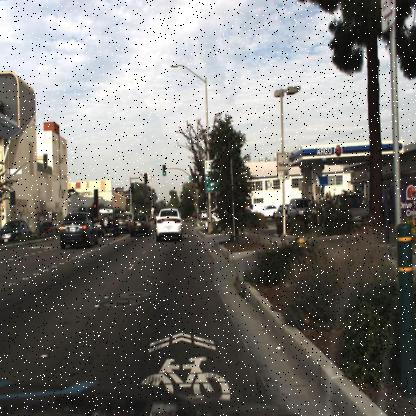car: (324, 180, 380, 238), (57, 212, 100, 250), (338, 191, 370, 229), (154, 205, 184, 244), (286, 196, 316, 229), (97, 206, 121, 236), (127, 211, 151, 240), (274, 196, 290, 238), (34, 215, 58, 242), (258, 199, 282, 221), (115, 210, 131, 236)
trafficLight-Green: (161, 160, 168, 180), (160, 162, 168, 178)
trafficLight-Red: (142, 168, 150, 186), (128, 178, 134, 192)
